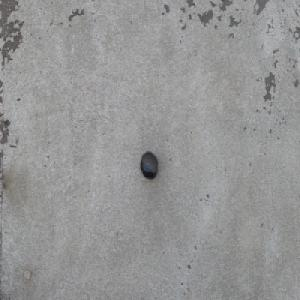FuelCap: (139, 150, 158, 179)
